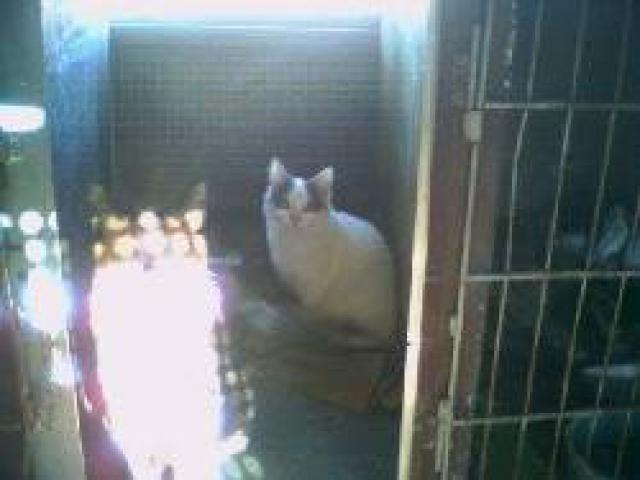cat: (257, 154, 401, 391)
